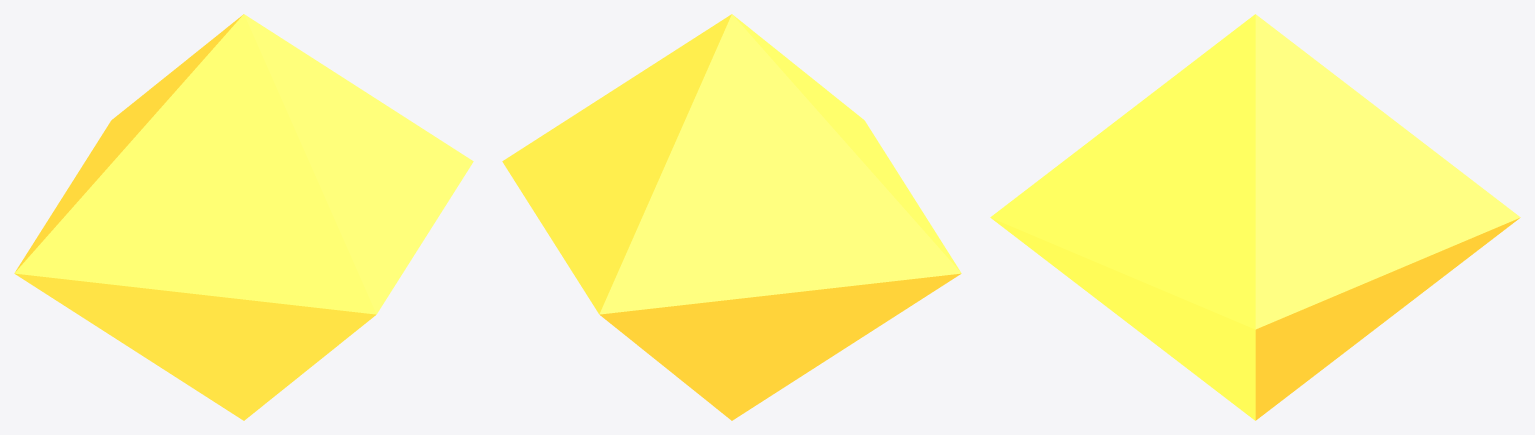
File: forge.glb
3 renders of one model, left to right at view 1: azimuth 30°, elevation 25°; view 2: azimuth 150°, elevation 25°; view 3: azimuth 270°, elevation 25°, orthographic.
Parts seen in each view (by area): view 1: ForgeMoltenCore; view 2: ForgeMoltenCore; view 3: ForgeMoltenCore.
Boxes of the visible parts, left/top/right/bottom form: ForgeMoltenCore: left=14, top=14, right=473, bottom=420; ForgeMoltenCore: left=502, top=14, right=961, bottom=420; ForgeMoltenCore: left=990, top=14, right=1520, bottom=420.
Bounding box in the file's own units: 2.6 × 2.2 × 2.6.
